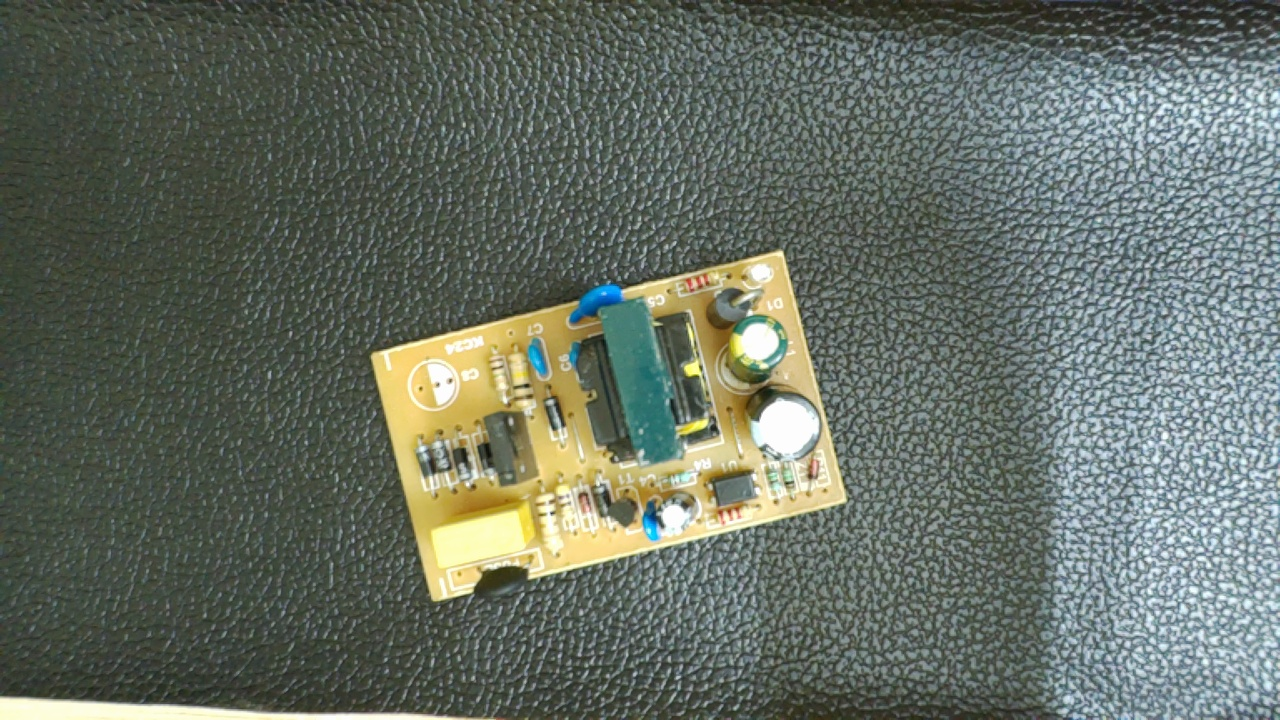fuse: (452, 557, 542, 602)
mov: (560, 284, 629, 326)
optocoupler: (696, 468, 762, 510)
